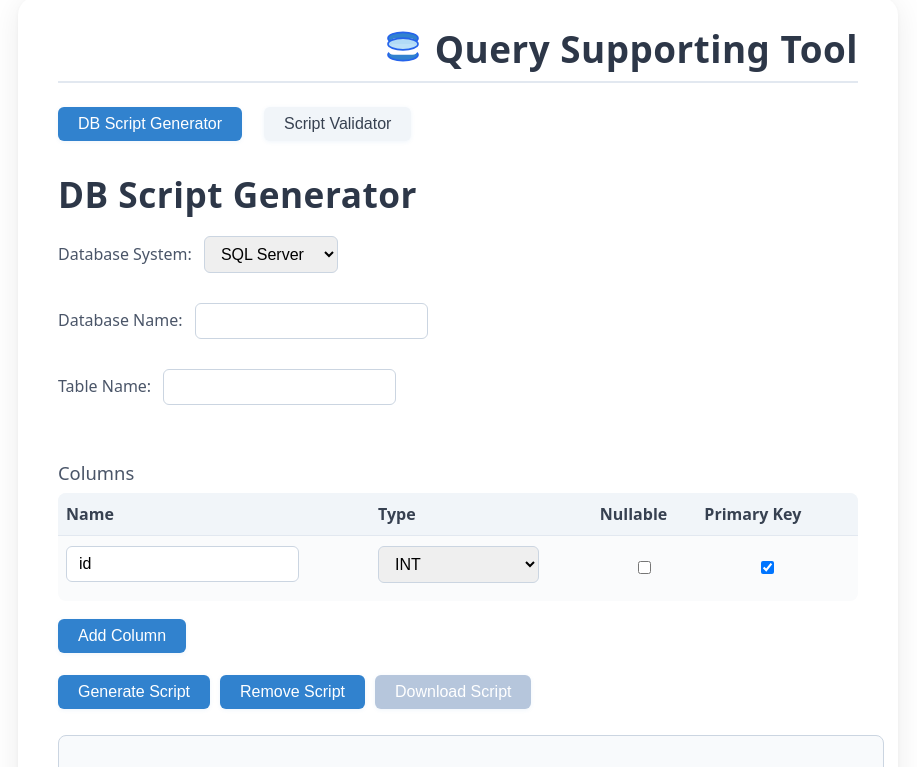
it: App UI › validate button shows error for empty script
What coordinates should you click on to do the following:
click the button with test id "tab-validator"
I would click on:
 (338, 124)
Its box is [264,107,411,141].
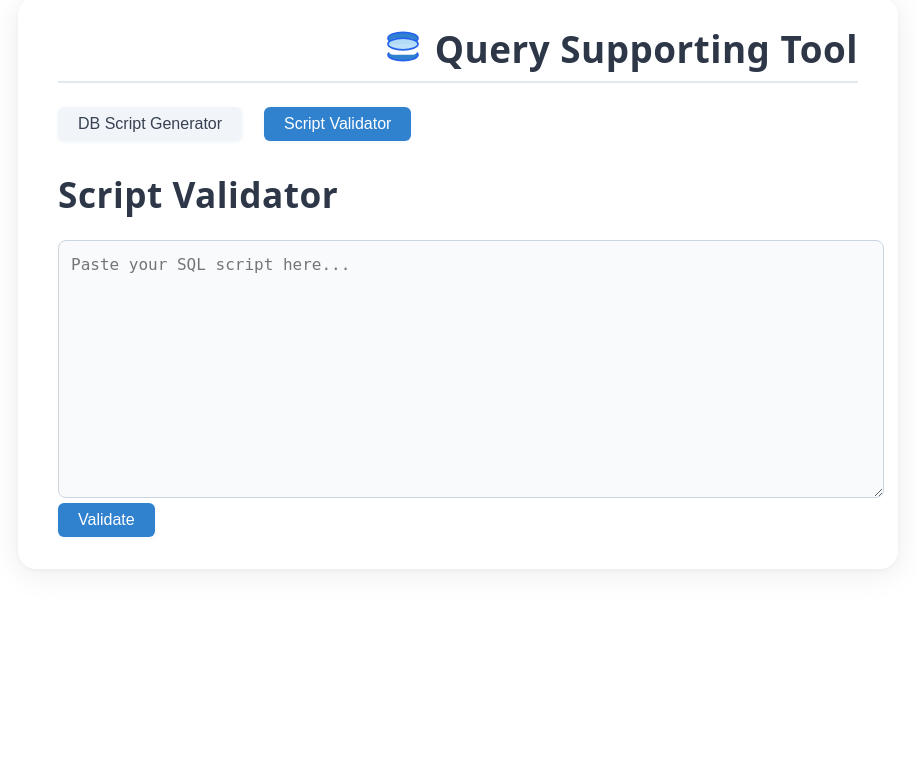
What coordinates should you click on to do the following:
click the button "Validate"
I would click on:
 (106, 520)
Its box is [58,503,155,537].
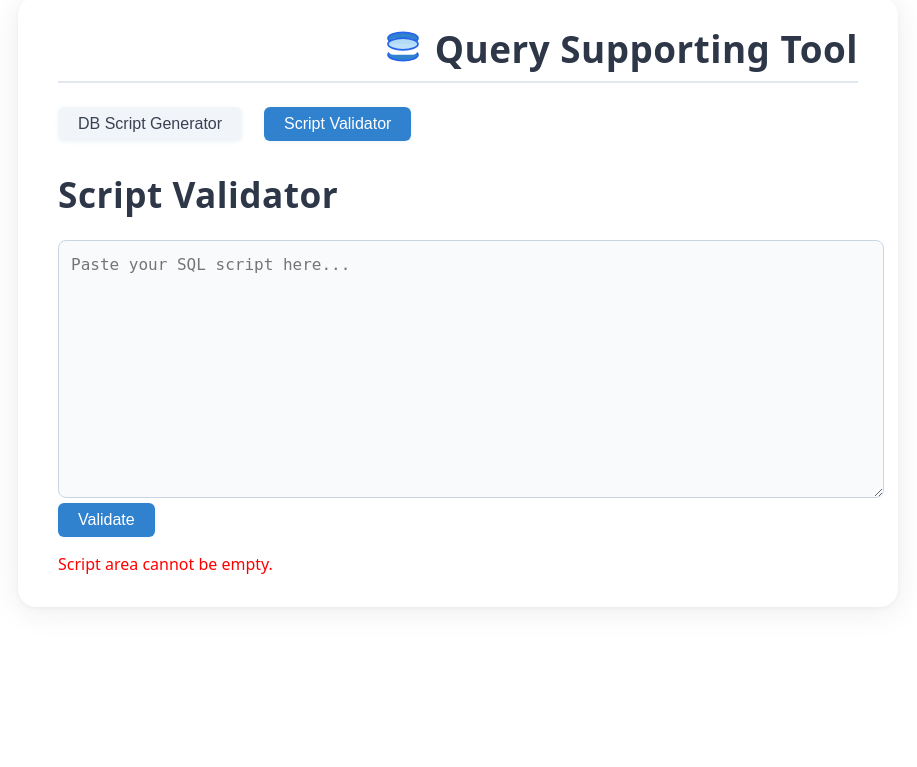
Result: the text "Script area cannot be empty." is shown at [58,553,273,575]
